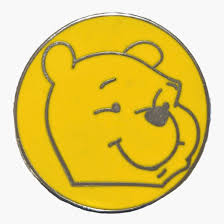Winnie: (37, 32, 197, 191)
